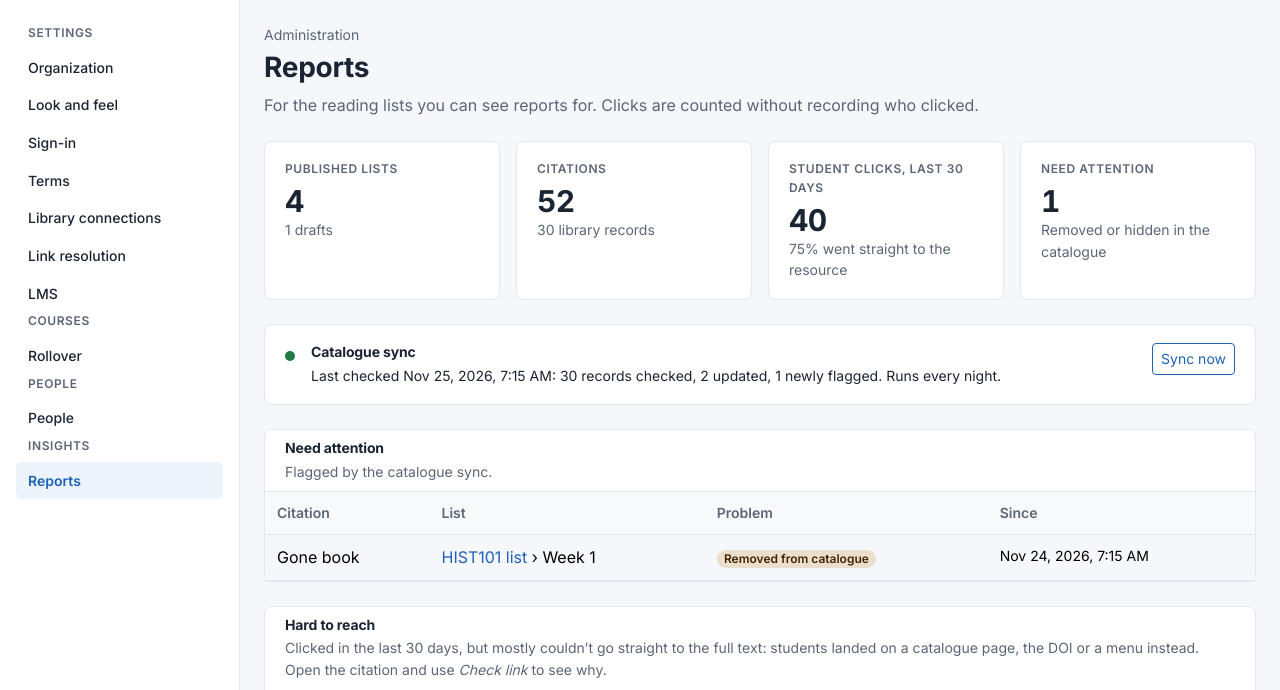
Scenario: Administration › shows reports, and lets organization admins start a sync
Expected: the text "75% went straight to the resource" is shown, [789, 240, 951, 278]
Expected: the text "Gone book" is shown, [265, 535, 430, 580]
Click the button "Sync now": (1194, 359) [1152, 343, 1235, 375]
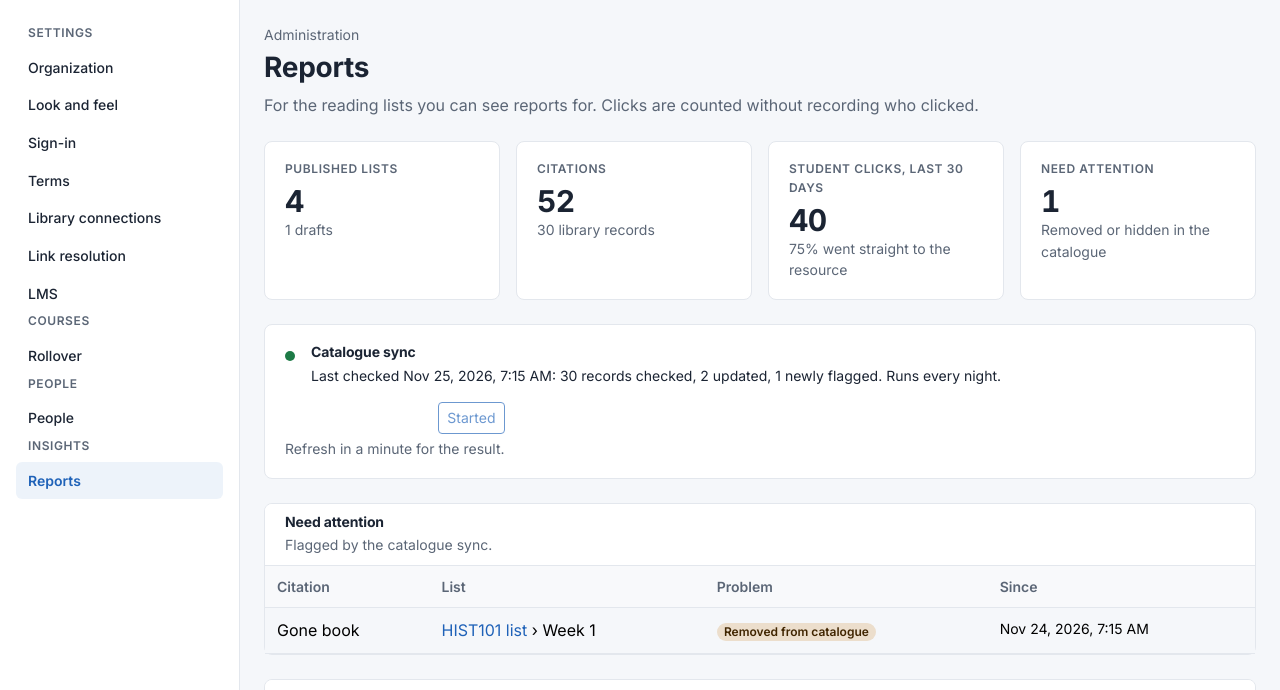
Now the button "Started" is disabled, box [438, 402, 504, 434]
